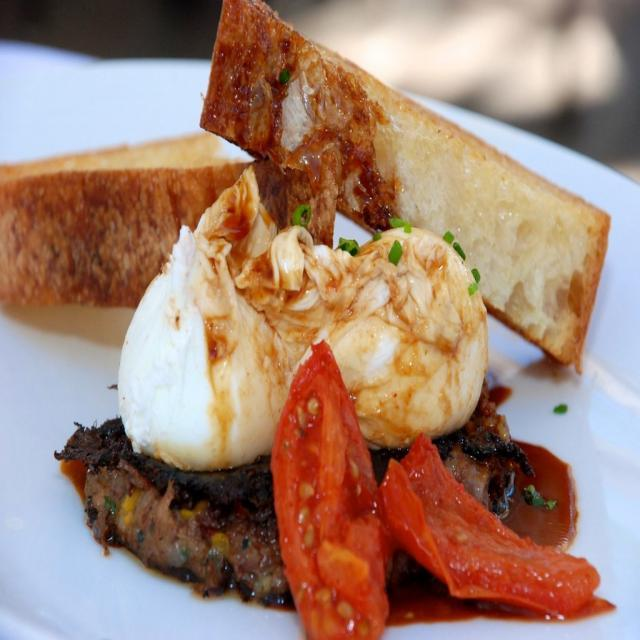Sandwich: (199, 0, 611, 376), (0, 127, 336, 305)
